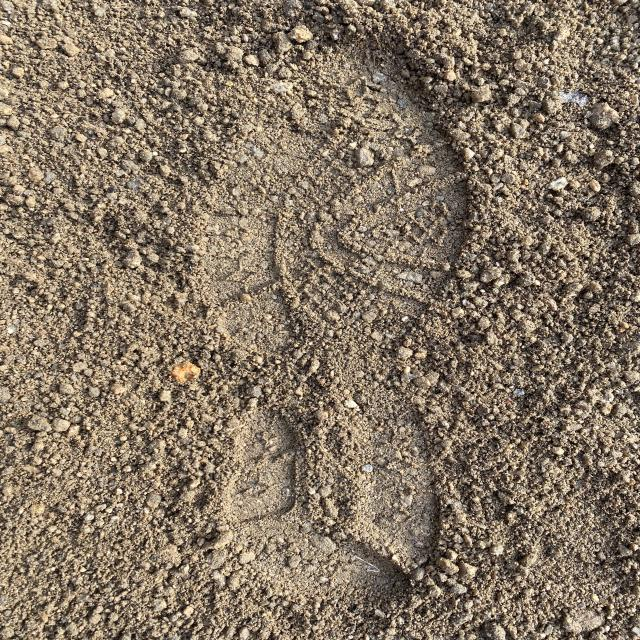human_footprint: (162, 2, 540, 637)
